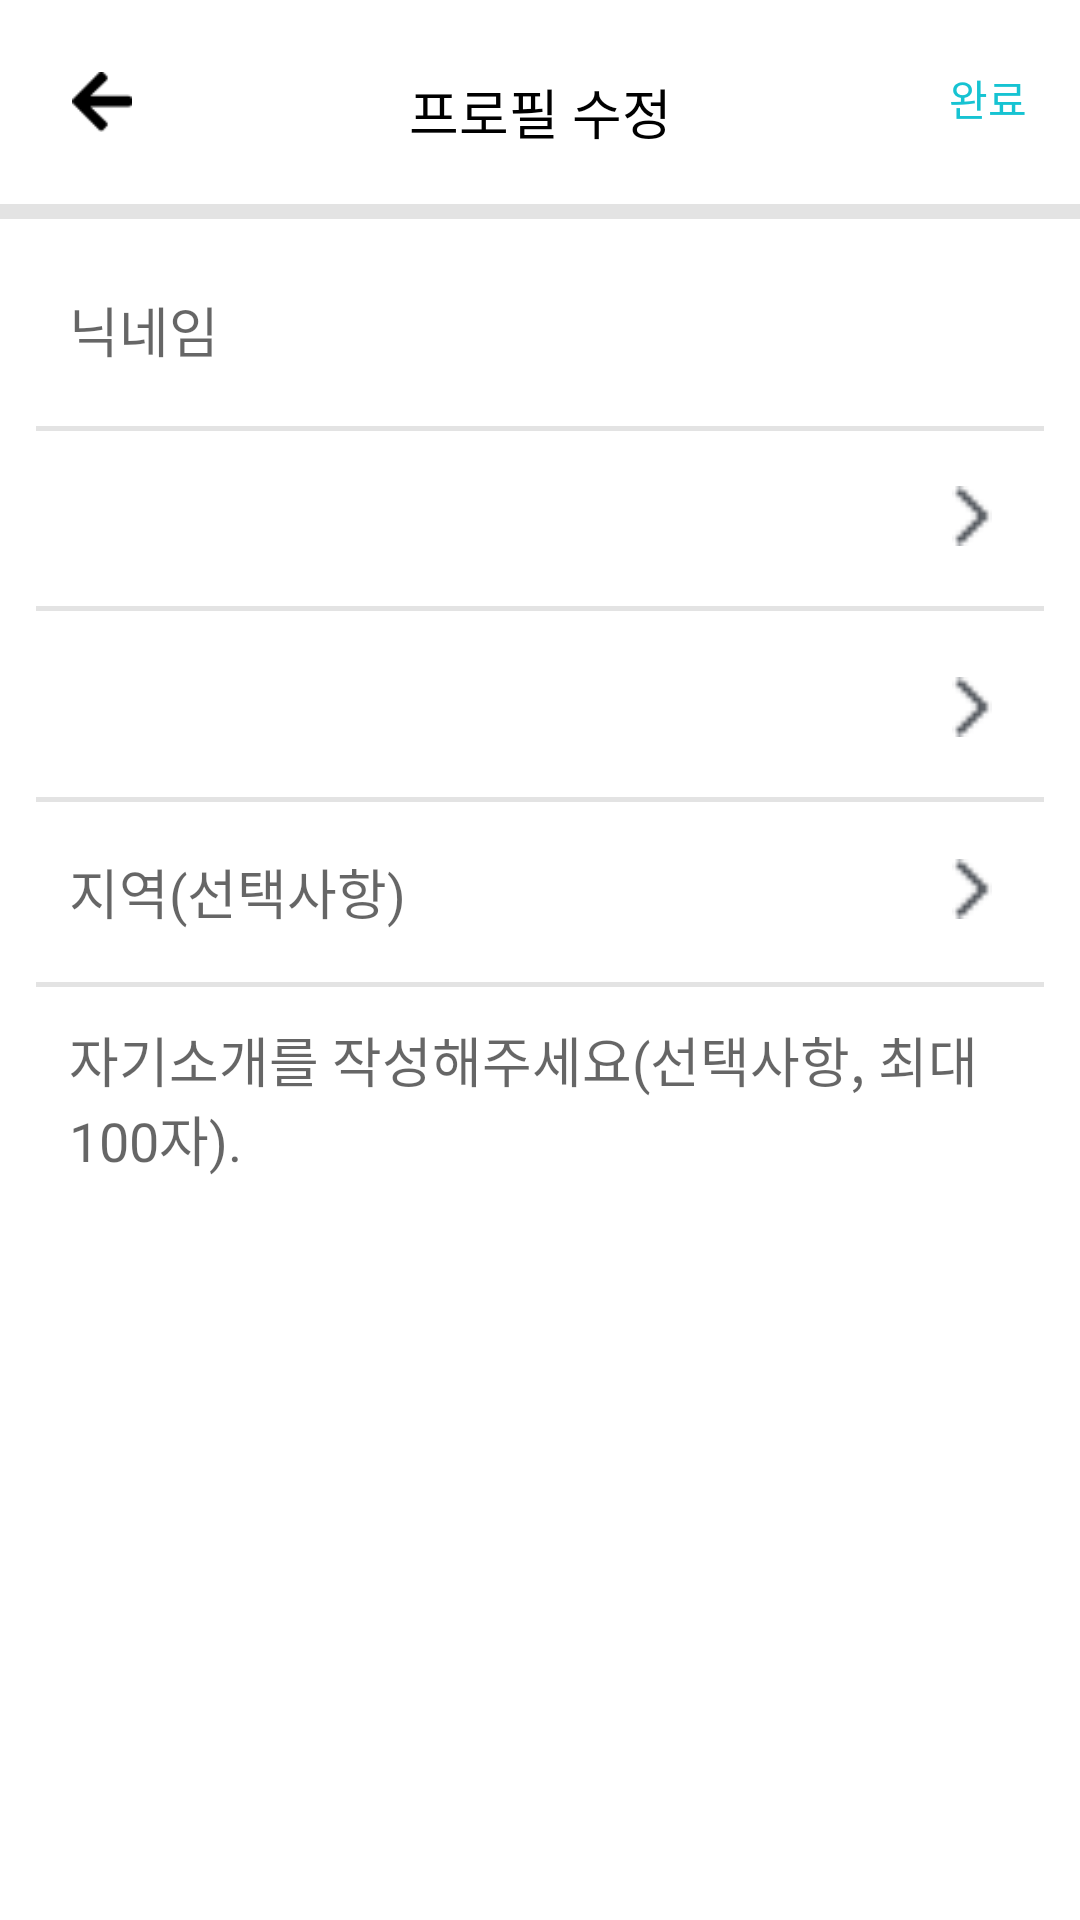

Locate icon controls on the screen. Image size 1080w x 1920h, boxes as BBox(x1, y1, x2, y2).
arrow left: BBox(72, 72, 132, 132)
right arrow: BBox(955, 486, 989, 546), BBox(955, 677, 989, 737), BBox(955, 859, 989, 919)
